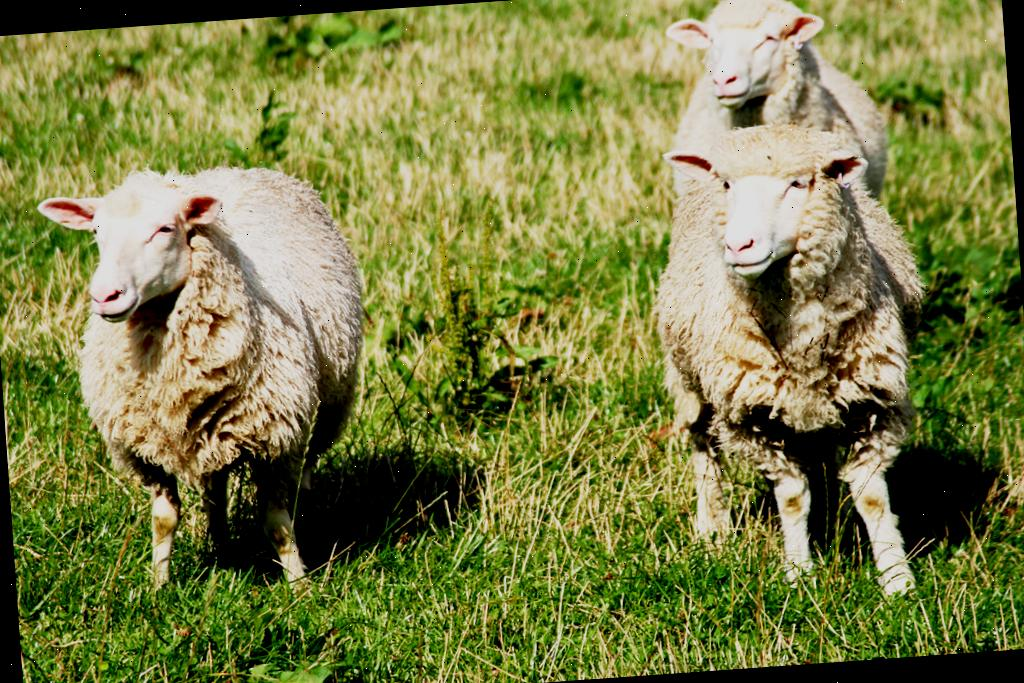Sheep: (36, 150, 382, 610), (636, 112, 948, 611), (664, 0, 888, 193)
